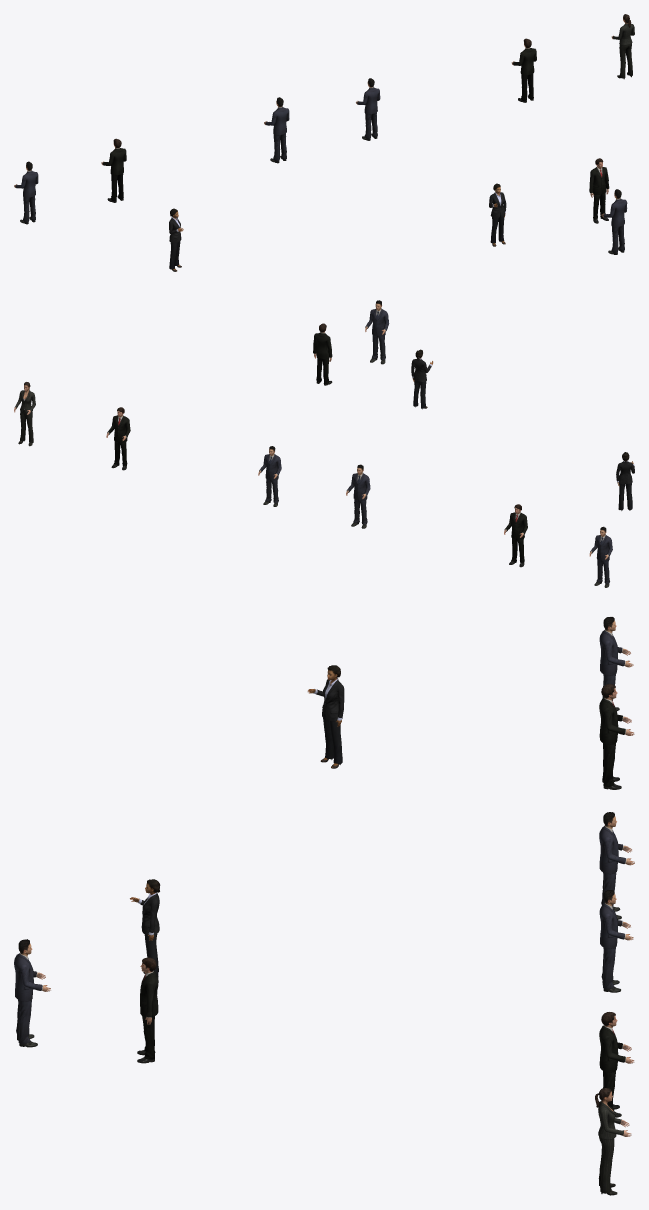
File: grand-technical-visitors.glb
3 views of the same model, one above another, from view 1: azimuth 30°, elevation 25°; view 2: azimuth 150°, elevation 25°; view 3: azimuth 270°, elevation 25° (orthographic). The views are drawn at different scales.
Visible parts, largest first — view 1: grand-technical-visitors | visitors | Rocketbox | Business_M (×2), grand-technical-visitors | visitors | Rocketbox | Business_F (×2); view 2: grand-technical-visitors | visitors | Rocketbox | Business_M (×2), grand-technical-visitors | visitors | Rocketbox | Business_F (×2); view 3: grand-technical-visitors | visitors | Rocketbox | Business_M (×2), grand-technical-visitors | visitors | Rocketbox | Business_F (×2).
Part boxes in pixels (x1=…): grand-technical-visitors | visitors | Rocketbox | Business_M (×2): x1=14, y1=38, x2=627, y2=254; grand-technical-visitors | visitors | Rocketbox | Business_F (×2): x1=169, y1=14, x2=634, y2=271; grand-technical-visitors | visitors | Rocketbox | Business_M (×2): x1=106, y1=300, x2=612, y2=587; grand-technical-visitors | visitors | Rocketbox | Business_F (×2): x1=14, y1=349, x2=634, y2=510; grand-technical-visitors | visitors | Rocketbox | Business_M (×2): x1=14, y1=617, x2=634, y2=1117; grand-technical-visitors | visitors | Rocketbox | Business_F (×2): x1=130, y1=665, x2=631, y2=1195.
Bounding box in the file's own units: 18.88 × 1.84 × 10.09.
12 materials, 12 textured.
